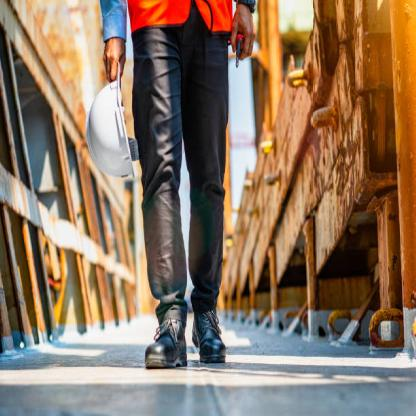bota: (143, 314, 189, 372), (190, 308, 229, 366)
